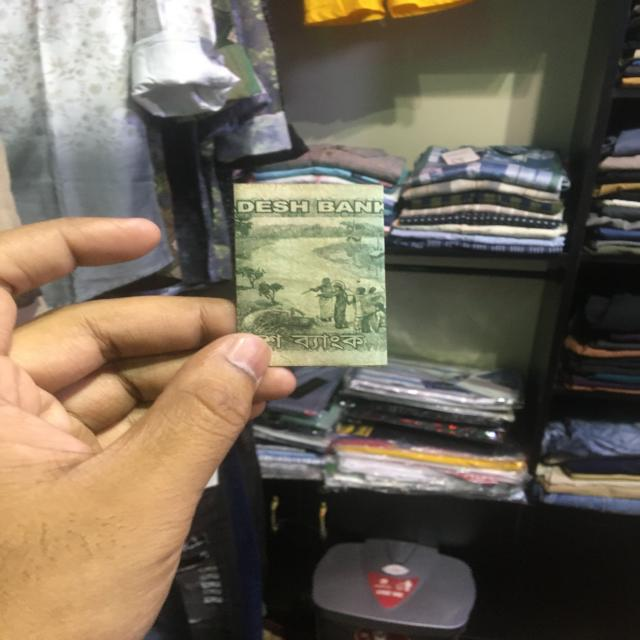Taka: (232, 184, 390, 368)
